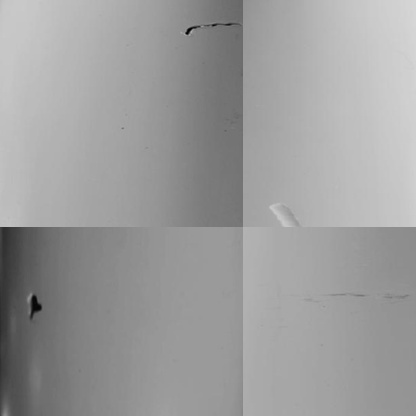fengxi: (177, 18, 246, 36)
kongdong: (24, 290, 46, 320)
sunshang: (268, 202, 301, 228)
